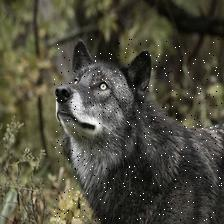WOLF: (54, 39, 224, 224)
